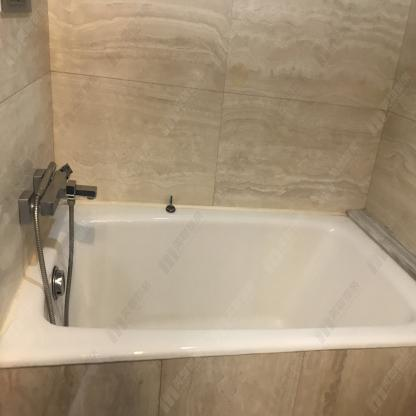Bathtub: (1, 202, 416, 416)
